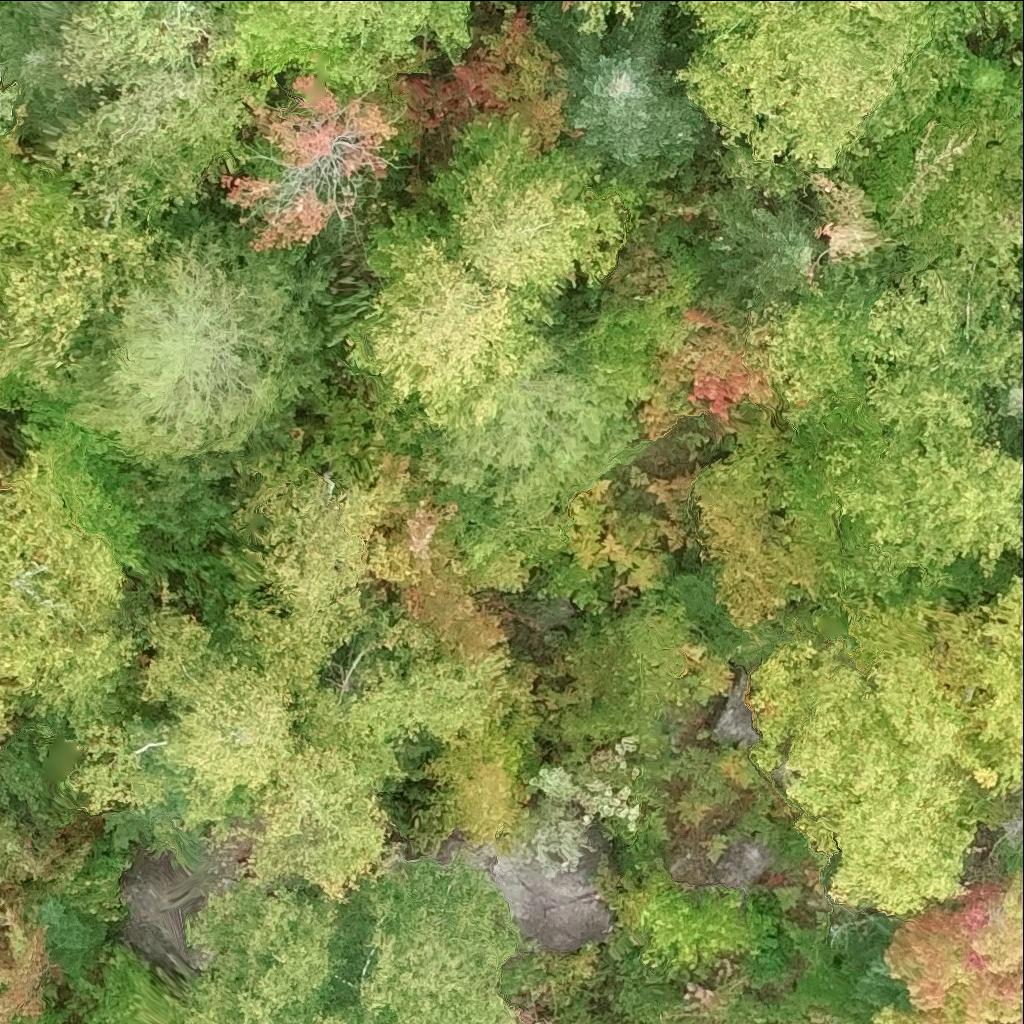crown: (744, 575, 1023, 913), (758, 292, 1023, 577), (58, 223, 326, 464), (248, 655, 479, 898), (0, 413, 148, 744), (351, 206, 568, 426), (675, 0, 932, 171), (858, 52, 1023, 289), (43, 63, 273, 227), (430, 112, 628, 292), (421, 365, 651, 519), (538, 585, 732, 766), (325, 848, 519, 1023), (687, 389, 824, 632), (528, 0, 706, 184), (142, 615, 295, 828), (388, 4, 582, 162), (221, 76, 396, 248), (233, 473, 366, 698), (179, 874, 378, 1023), (861, 262, 1023, 442), (0, 211, 158, 389), (551, 232, 697, 393), (870, 870, 1023, 1023), (231, 0, 474, 93), (607, 857, 778, 970), (391, 492, 504, 654), (645, 301, 772, 440), (419, 714, 543, 851), (52, 0, 238, 89), (557, 476, 686, 594), (435, 484, 572, 591), (711, 203, 829, 295), (69, 722, 163, 816), (659, 960, 783, 1023), (0, 884, 53, 1023), (29, 897, 108, 982), (46, 843, 128, 924), (786, 417, 839, 538), (534, 549, 605, 617), (0, 815, 47, 885), (575, 0, 645, 40), (836, 0, 923, 20), (997, 385, 1023, 444), (798, 1006, 880, 1023), (1005, 1022, 1011, 1023)
